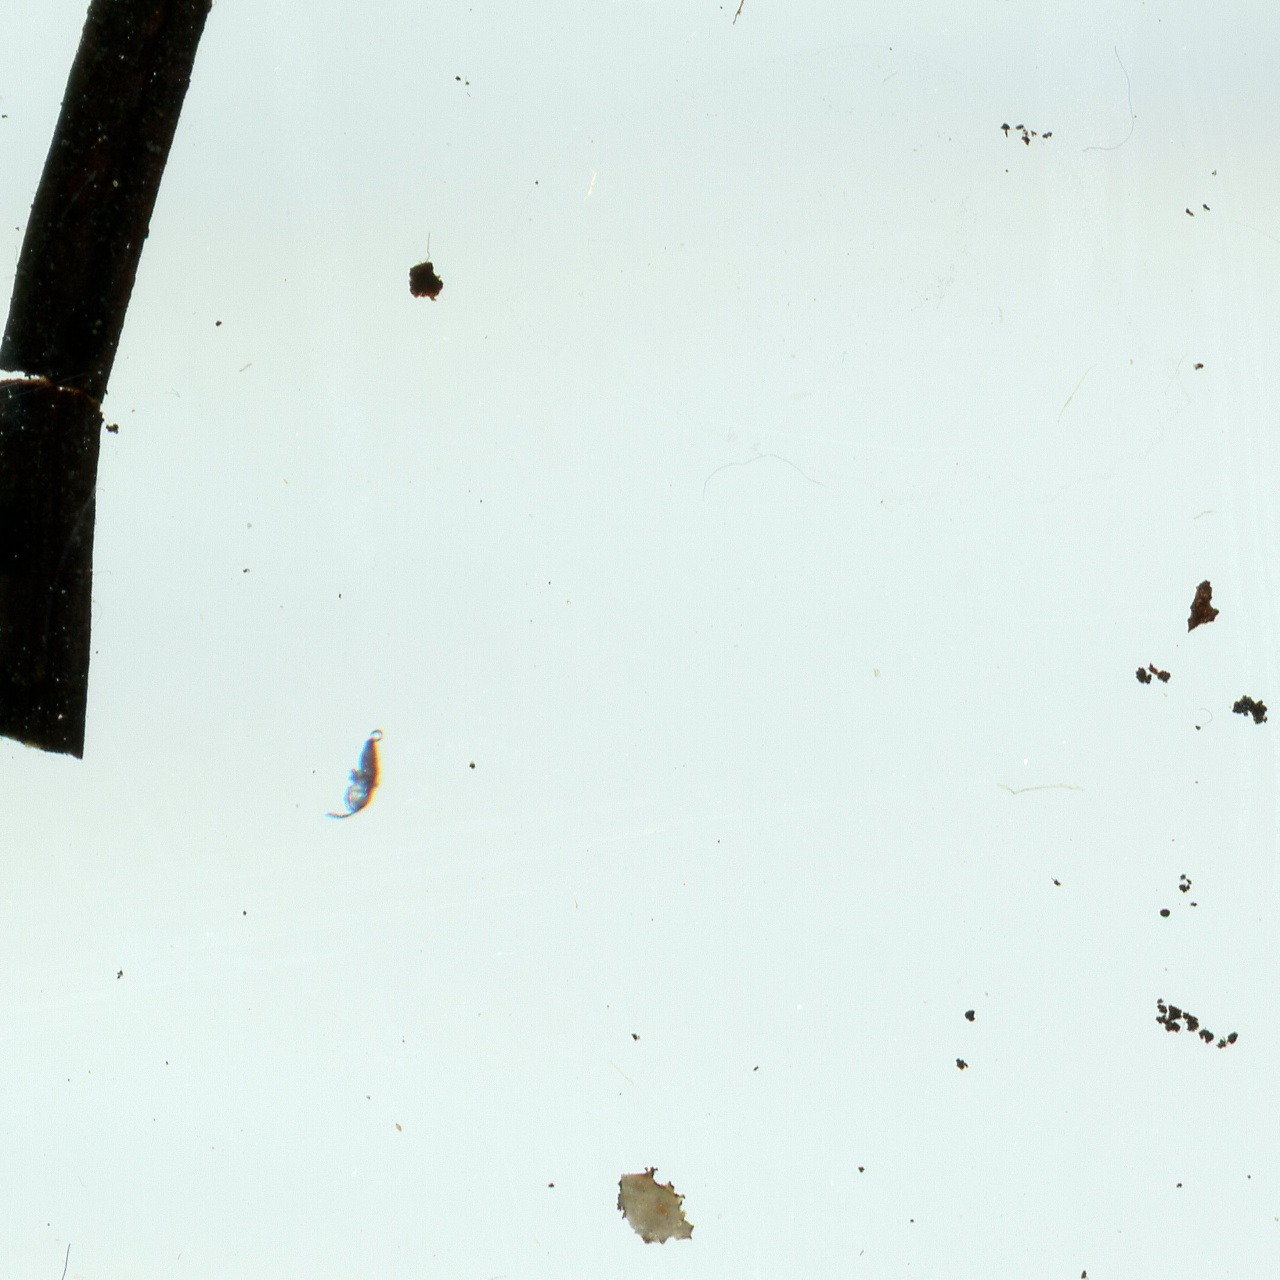arthropod: (319, 733, 390, 829)
